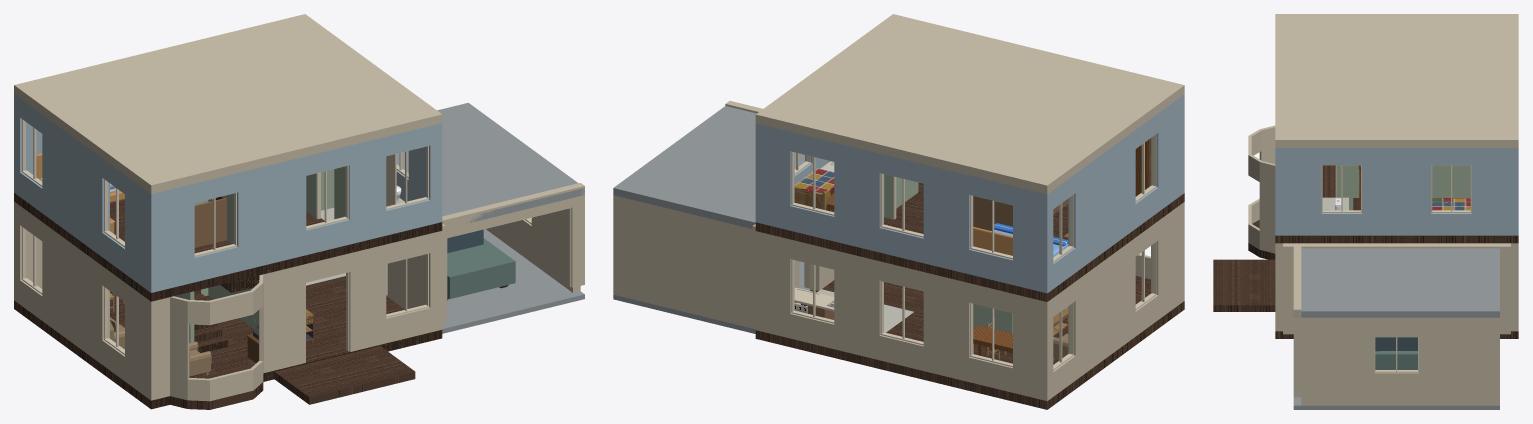
File: daniel_helen_house_a01.glb
3 views of the same model, side by side, from view 1: azimuth 30°, elevation 25°; view 2: azimuth 150°, elevation 25°; view 3: azimuth 270°, elevation 25° (orthographic). The views are drawn at different scales.
Parts seen in each view (by area): view 1: Forro_superior_teto_sotao, Forro_garagem, Laje_terreo, ENV_1_04.001, ENV_0_04.001, Piso_garagem, Piso_varanda, ENV_1_01, ENV_0_01, ENV_1_01.001, ENV_0_01.001, Laje_superior_frente (+44 smaller); view 2: Forro_superior_teto_sotao, ENV_0_07, Forro_garagem, ENV_1_04.001, ENV_0_04.001, Laje_terreo, ENV_0_03.001, ENV_1_03.001, ENV_1_03.002, ENV_0_03.002, ENV_1_03, ENV_0_03 (+33 smaller); view 3: Forro_superior_teto_sotao, Forro_garagem, ENV_0_08, ENV_0_08.001, ENV_1_05.001, ENV_1_05.002, ENV_1_05, Piso_varanda, ENV_0_05, Bay_face_lateral.001, ENV_0_08_abaixo, ENV_0_05.001 (+23 smaller).
Boxes of the visible parts, bbox=[...] form: Forro_superior_teto_sotao: bbox=[14, 14, 442, 193]; Forro_garagem: bbox=[396, 102, 584, 222]; Laje_terreo: bbox=[14, 276, 442, 409]; ENV_1_04.001: bbox=[42, 114, 109, 256]; ENV_0_04.001: bbox=[42, 222, 109, 364]; Piso_garagem: bbox=[442, 229, 584, 333]; Piso_varanda: bbox=[274, 346, 415, 404]; ENV_1_01: bbox=[263, 156, 306, 265]; ENV_0_01: bbox=[259, 264, 305, 372]; ENV_1_01.001: bbox=[345, 137, 386, 244]; ENV_0_01.001: bbox=[346, 244, 386, 351]; Laje_superior_frente: bbox=[115, 218, 442, 301]; Forro_superior_teto_sotao: bbox=[755, 14, 1184, 194]; ENV_0_07: bbox=[613, 195, 755, 329]; Forro_garagem: bbox=[613, 106, 804, 228]; ENV_1_04.001: bbox=[1068, 130, 1135, 272]; ENV_0_04.001: bbox=[1068, 238, 1135, 379]; Laje_terreo: bbox=[755, 280, 1184, 409]; ENV_0_03.001: bbox=[923, 272, 973, 381]; ENV_1_03.001: bbox=[923, 164, 973, 274]; ENV_1_03.002: bbox=[834, 142, 883, 252]; ENV_0_03.002: bbox=[834, 250, 883, 360]; ENV_1_03: bbox=[1013, 186, 1051, 293]; ENV_0_03: bbox=[1013, 294, 1051, 401]; Forro_superior_teto_sotao: bbox=[1275, 14, 1518, 147]; Forro_garagem: bbox=[1293, 248, 1499, 317]; ENV_0_08: bbox=[1301, 317, 1374, 405]; ENV_0_08.001: bbox=[1419, 317, 1492, 405]; ENV_1_05.001: bbox=[1362, 148, 1431, 235]; ENV_1_05.002: bbox=[1471, 148, 1510, 235]; ENV_1_05: bbox=[1283, 148, 1321, 235]; Piso_varanda: bbox=[1213, 259, 1275, 311]; ENV_0_05: bbox=[1283, 243, 1419, 334]; Bay_face_lateral.001: bbox=[1259, 160, 1275, 253]; ENV_0_08_abaixo: bbox=[1374, 372, 1418, 405]; ENV_0_05.001: bbox=[1454, 243, 1510, 334].
Bounding box in the file's own units: 11.74 × 5.8 × 7.88.
35 materials, 11 textured.
